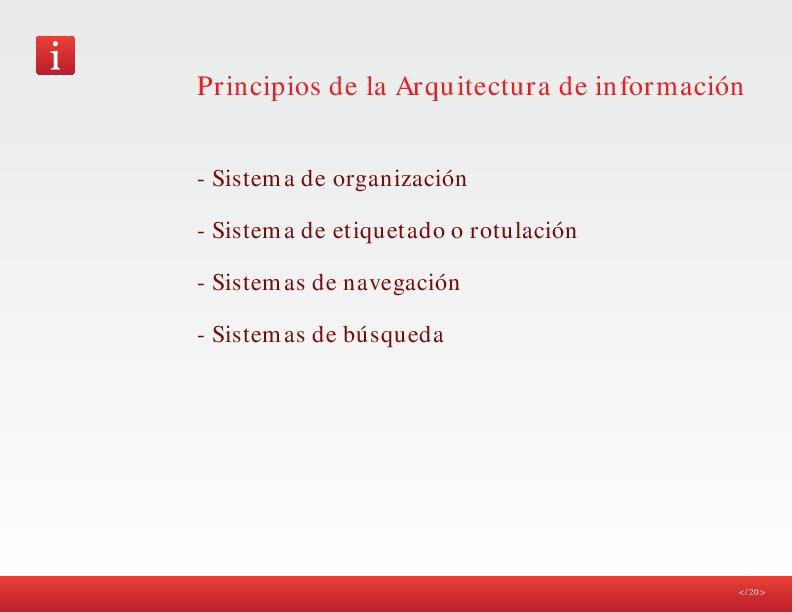paragraph: (186, 162, 621, 414)
title: (186, 57, 752, 119)
